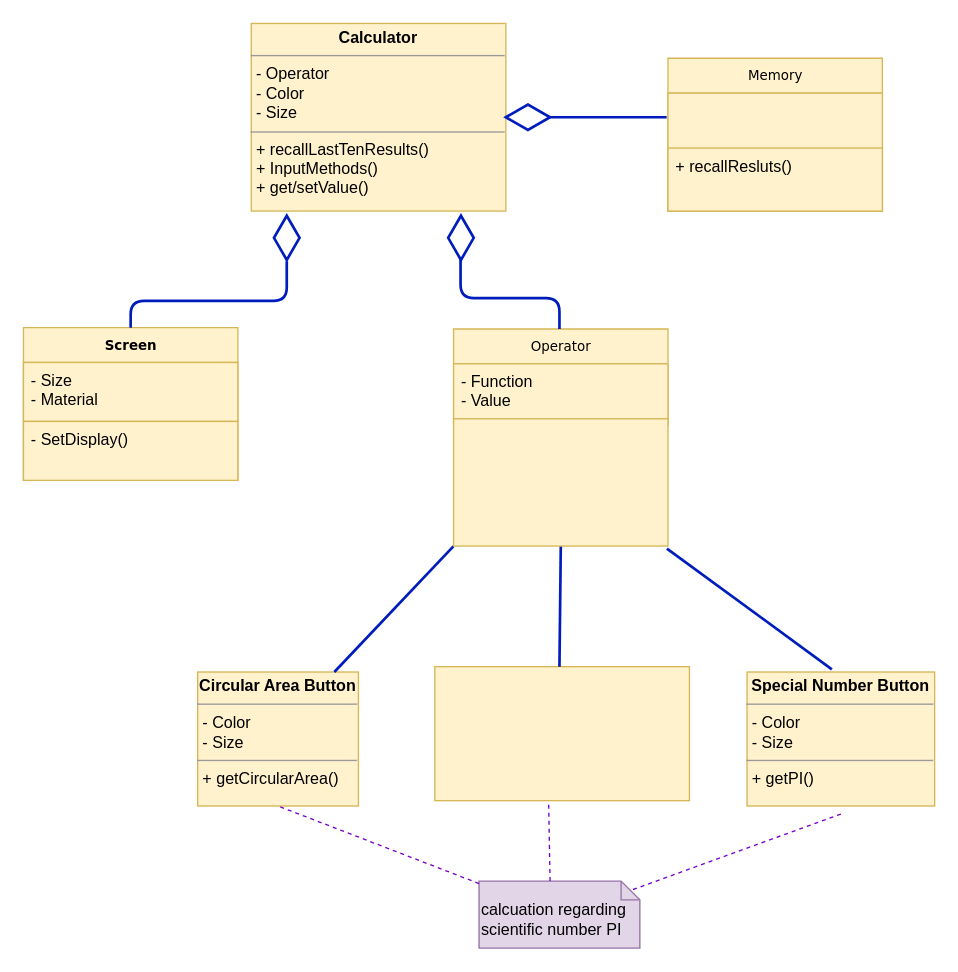
Image size: 958x972. Some labels were removed from this diagram. The shapes that lost their labels are listed below. From the top down, each one's centre as x and y in pixels, then its label:
At point (774, 122): "- Size".
At point (560, 481): "+ buttonClick() + add() + multiply() + divide() + clear() + scientificCalMode()".
At point (561, 733): "Circular Circumference Button - Color - Size + getCircularCircumference()".
